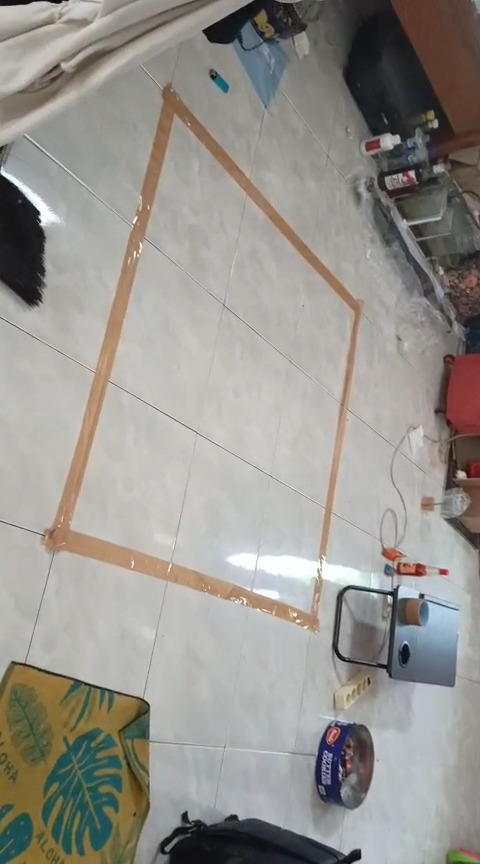floor marking: (44, 86, 361, 630)
